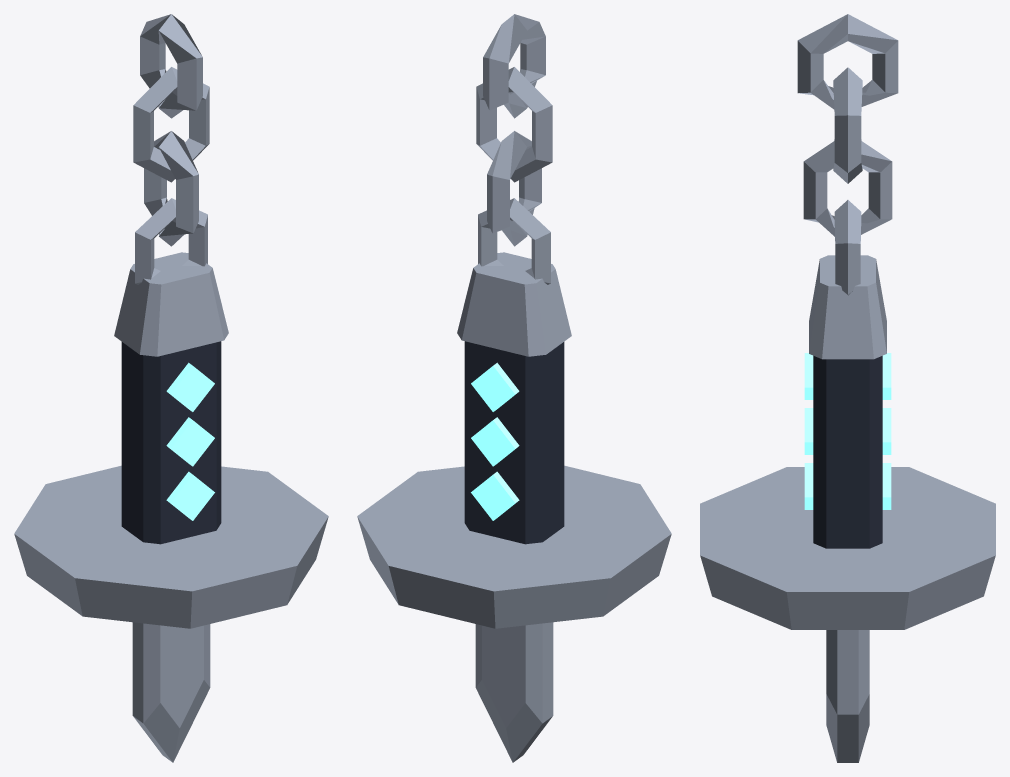
The model's file is MiniTsuba.fbx.
3 renders of one model, left to right at view 1: azimuth 30°, elevation 25°; view 2: azimuth 150°, elevation 25°; view 3: azimuth 270°, elevation 25°, orthographic.
Visible parts, largest first — view 1: Body_Hilt_Steel, Body_Hilt_Dark, Chain, Neon; view 2: Body_Hilt_Steel, Body_Hilt_Dark, Chain, Neon; view 3: Body_Hilt_Steel, Body_Hilt_Dark, Chain, Neon.
Part boxes in pixels (x1=…): Body_Hilt_Steel: x1=14, y1=198, x2=328, y2=762; Body_Hilt_Dark: x1=121, y1=341, x2=221, y2=544; Chain: x1=133, y1=14, x2=209, y2=246; Neon: x1=166, y1=362, x2=214, y2=520; Body_Hilt_Steel: x1=357, y1=198, x2=671, y2=762; Body_Hilt_Dark: x1=464, y1=341, x2=564, y2=544; Chain: x1=476, y1=14, x2=552, y2=246; Neon: x1=471, y1=362, x2=519, y2=520; Body_Hilt_Steel: x1=700, y1=200, x2=995, y2=762; Body_Hilt_Dark: x1=813, y1=356, x2=882, y2=548; Chain: x1=797, y1=14, x2=898, y2=236; Neon: x1=804, y1=353, x2=891, y2=509.
Size of the model in its own units: 0.1367 by 0.3829 by 0.1367.
